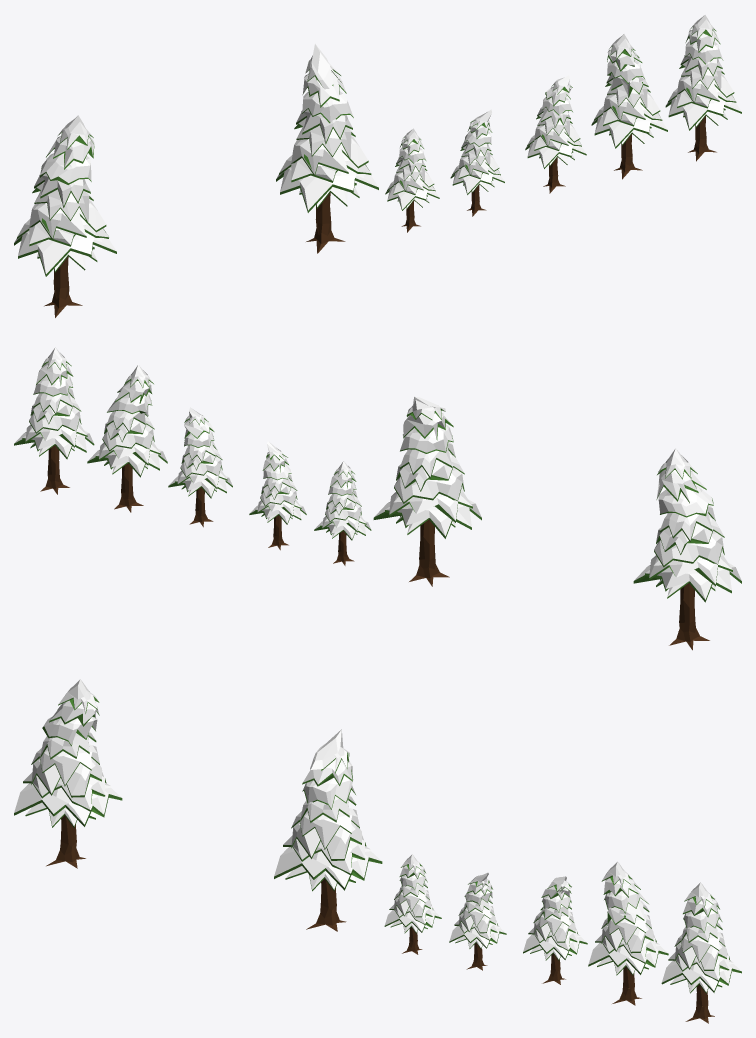
Rendered from LowPolyTreePack.fbx.
The picture shows the model from 3 angles, top to bottom: view 1: azimuth 30°, elevation 25°; view 2: azimuth 150°, elevation 25°; view 3: azimuth 330°, elevation 25°; orthographic projection.
Visible parts, largest first — view 1: SnowPine8, SnowPine6, SnowPine1, SnowPine2, SnowPine3, SnowPine4, SnowPine5; view 2: SnowPine8, SnowPine6, SnowPine2, SnowPine1, SnowPine3, SnowPine4, SnowPine5, Stump1.010, Stump1.011; view 3: SnowPine6, SnowPine8, SnowPine2, SnowPine1, SnowPine3, SnowPine5, SnowPine4.
Part boxes in pixels (box(x1,y1,x2,y2)): SnowPine8: box(14, 115, 116, 288); SnowPine6: box(276, 44, 378, 224); SnowPine1: box(665, 15, 741, 139); SnowPine2: box(591, 34, 667, 157); SnowPine3: box(525, 75, 586, 175); SnowPine4: box(450, 109, 504, 201); SnowPine5: box(385, 128, 439, 217); SnowPine8: box(633, 448, 741, 622); SnowPine6: box(373, 396, 481, 559); SnowPine2: box(87, 364, 167, 492); SnowPine1: box(14, 347, 94, 474); SnowPine3: box(168, 407, 232, 510); SnowPine4: box(249, 441, 306, 535); SnowPine5: box(314, 461, 371, 551); Stump1.010: box(409, 555, 449, 586); Stump1.011: box(669, 619, 709, 650); SnowPine6: box(274, 729, 382, 909); SnowPine8: box(14, 679, 122, 846); SnowPine2: box(588, 861, 668, 989); SnowPine1: box(661, 882, 741, 1007); SnowPine3: box(523, 876, 587, 971); SnowPine5: box(384, 854, 441, 943); SnowPine4: box(449, 872, 506, 958).
Bounding box in the file's own units: 4053 × 1068 × 421.
